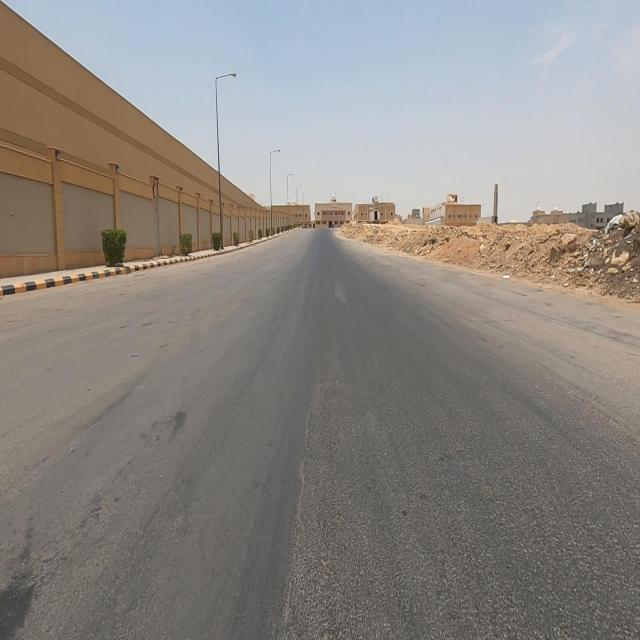debris: (562, 176, 640, 304)
